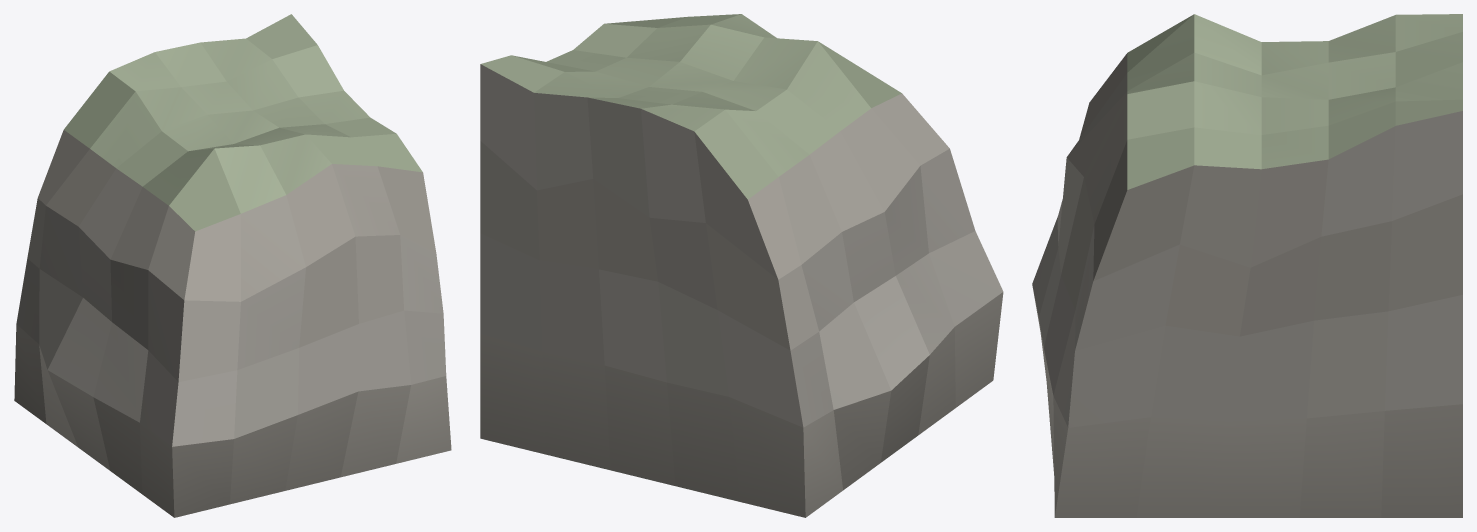
Rendered from roca_esquina_2.glb.
The picture shows the model from 3 angles, left to right: view 1: azimuth 30°, elevation 25°; view 2: azimuth 150°, elevation 25°; view 3: azimuth 270°, elevation 25°; orthographic projection. The views are drawn at different scales.
Parts seen in each view (by area): view 1: propforge-cuartos-roca_esquina; view 2: propforge-cuartos-roca_esquina; view 3: propforge-cuartos-roca_esquina.
Boxes of the visible parts, x1=… form: propforge-cuartos-roca_esquina: x1=14, y1=14, x2=451, y2=517; propforge-cuartos-roca_esquina: x1=480, y1=14, x2=1003, y2=517; propforge-cuartos-roca_esquina: x1=1032, y1=14, x2=1462, y2=517.
Size of the model in its own units: 0.9649 by 0.9908 by 0.9499.
